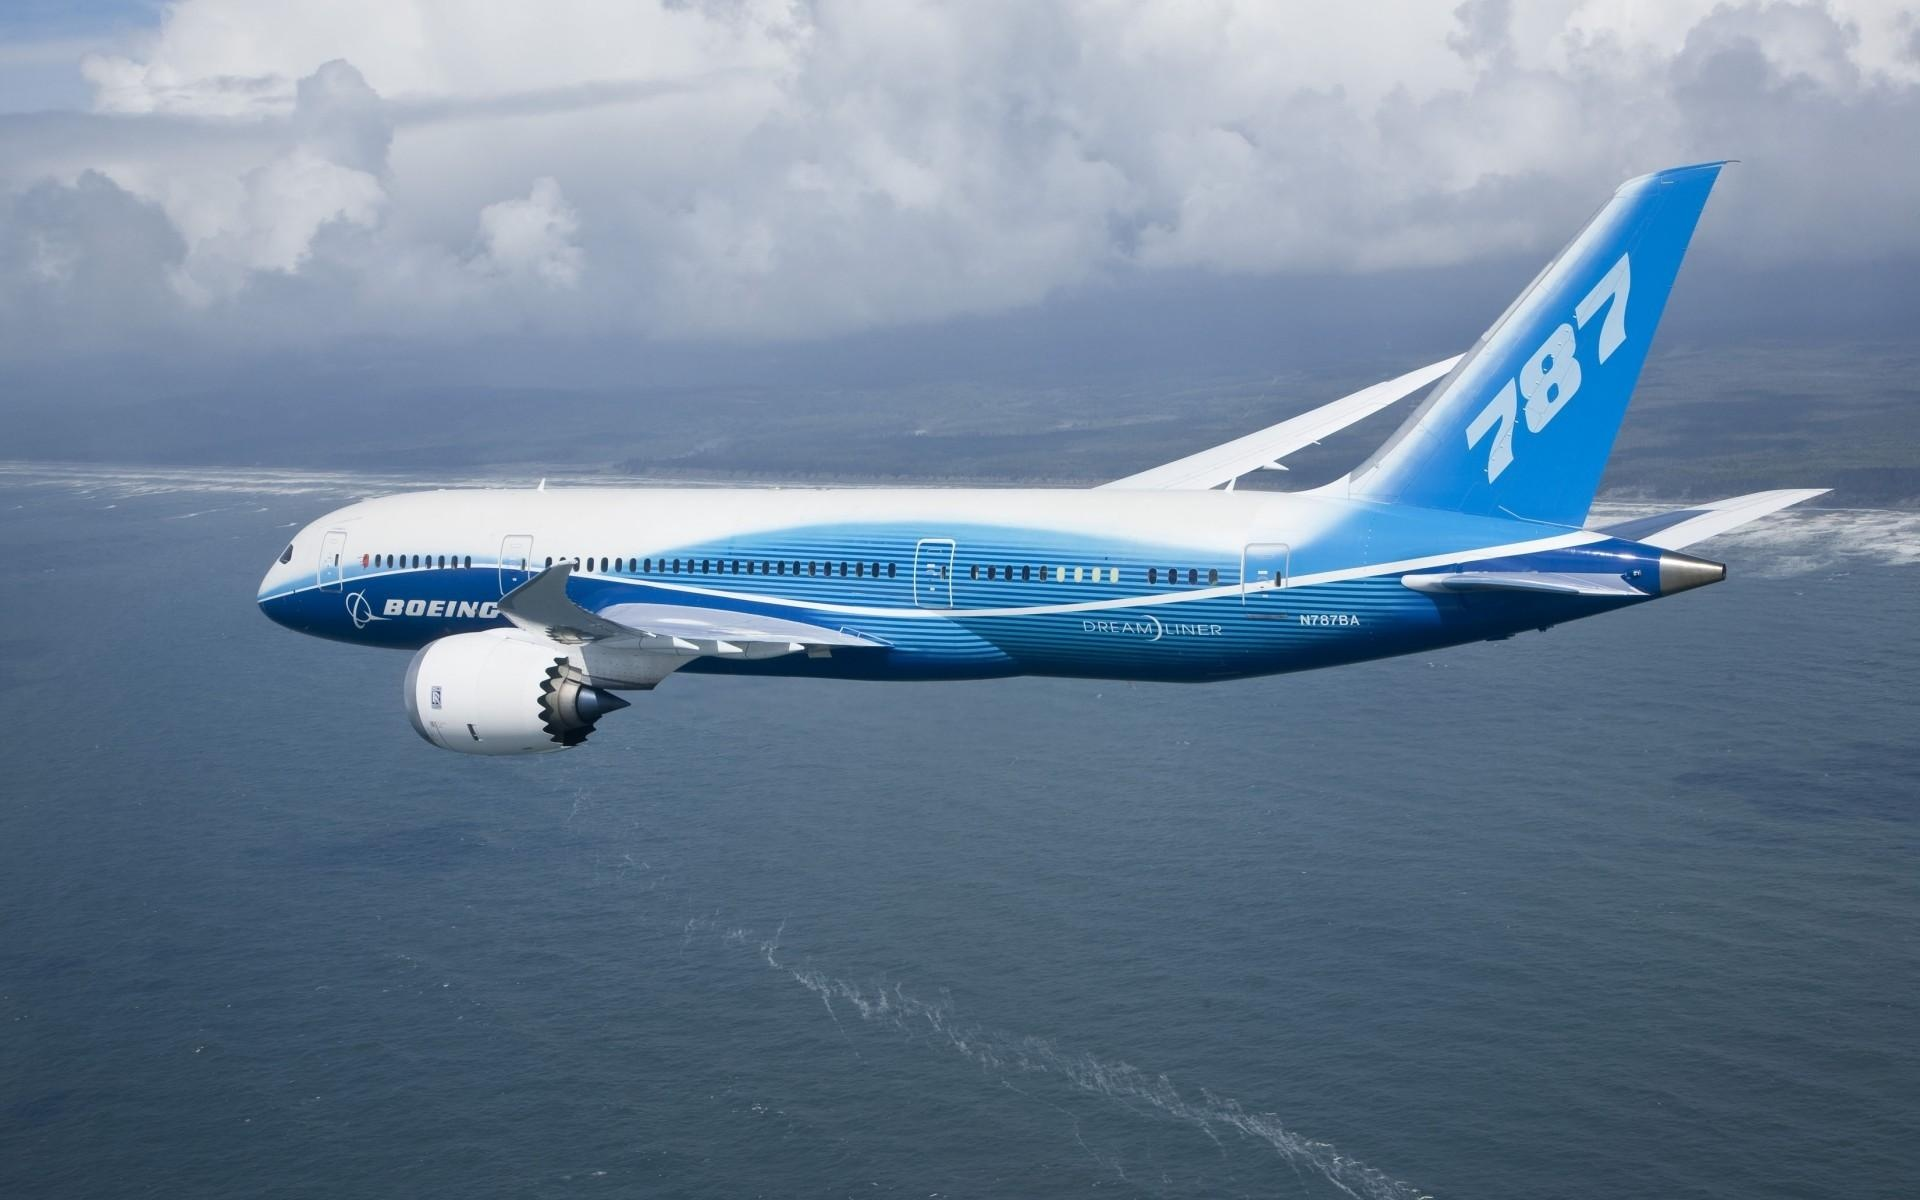airplane: (225, 129, 1823, 760)
